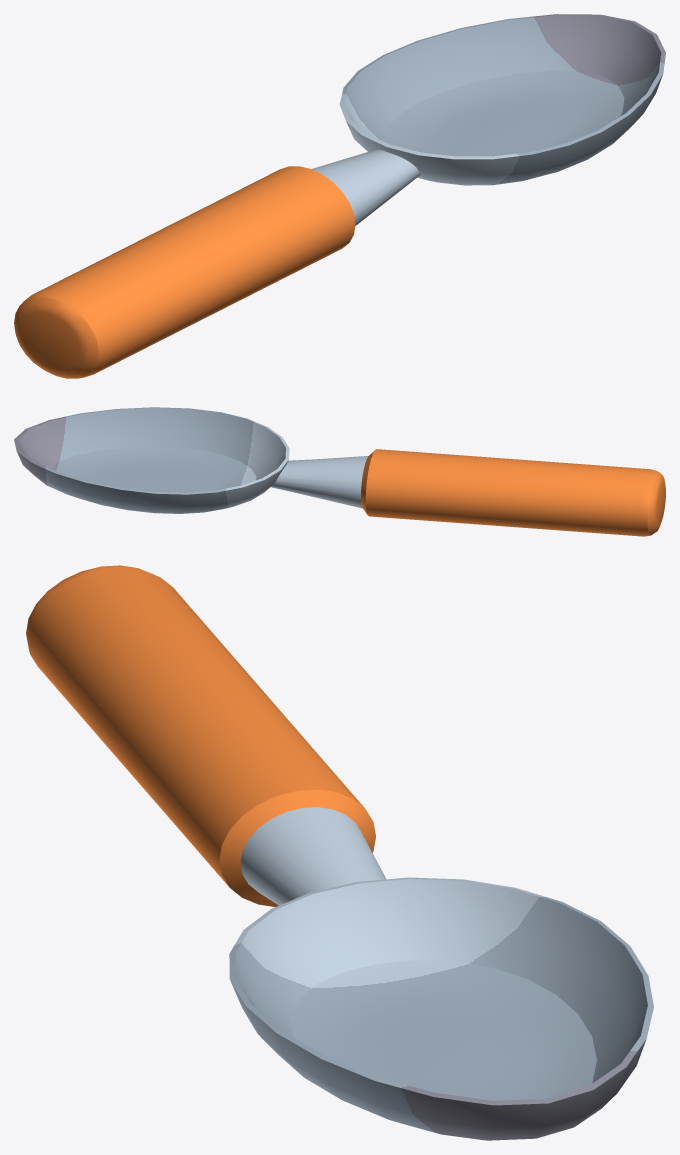
File: chuchara.fbx
The picture shows the model from 3 angles, top to bottom: view 1: azimuth 30°, elevation 25°; view 2: azimuth 150°, elevation 25°; view 3: azimuth 270°, elevation 25°; orthographic projection. The views are drawn at different scales.
Parts seen in each view (by area): view 1: chuchara; view 2: chuchara; view 3: chuchara.
Boxes of the visible parts, <box> form: chuchara: <box>14,14,665,378</box>; chuchara: <box>14,407,665,536</box>; chuchara: <box>26,565,653,1140</box>.
Size of the model in its own units: 29.13 by 2.95 by 14.54.
